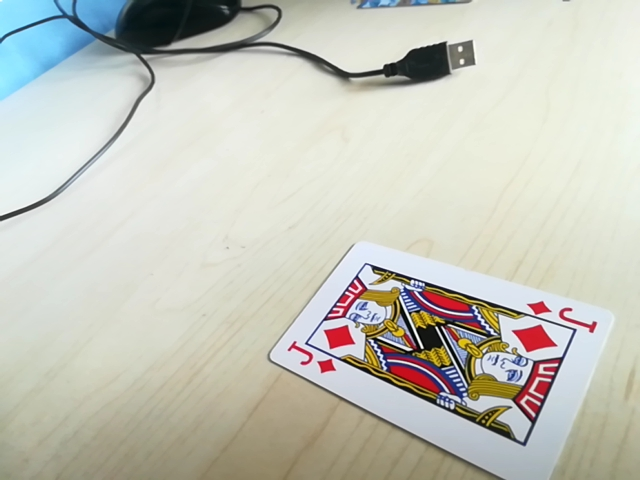fk j: (531, 298, 599, 328), (279, 349, 342, 380)
